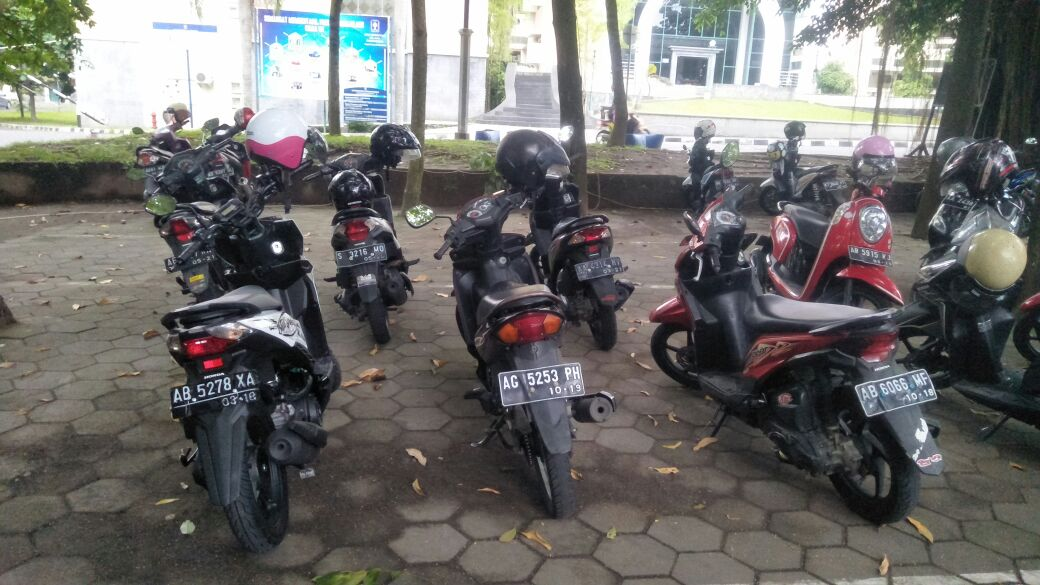plate: (855, 368, 937, 416), (498, 360, 584, 405), (170, 370, 259, 410), (335, 239, 387, 266)
